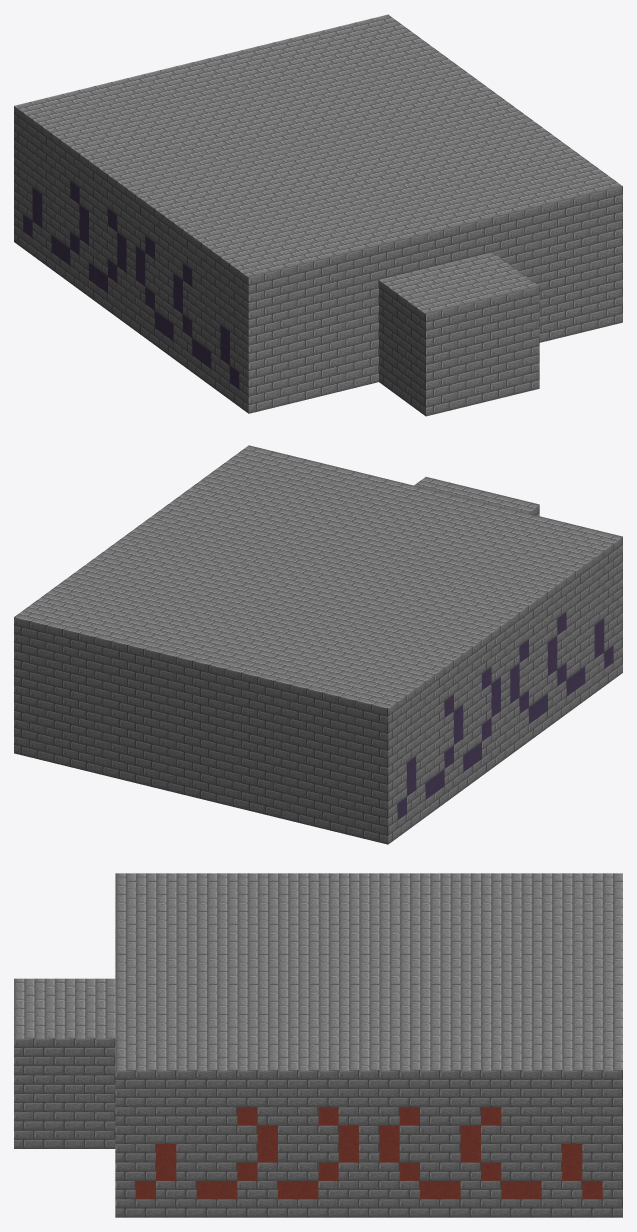
File: minecraft.obj
3 renders of one model, top to bottom at view 1: azimuth 30°, elevation 25°; view 2: azimuth 150°, elevation 25°; view 3: azimuth 270°, elevation 25°, orthographic. The views are drawn at different scales.
Bounding box in the file's own units: 230 × 80 × 300.
